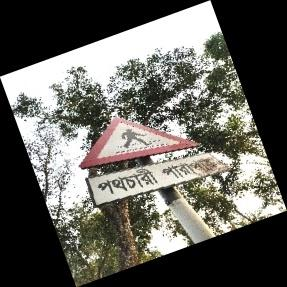Pedestrian-crossing: (80, 116, 231, 207)
